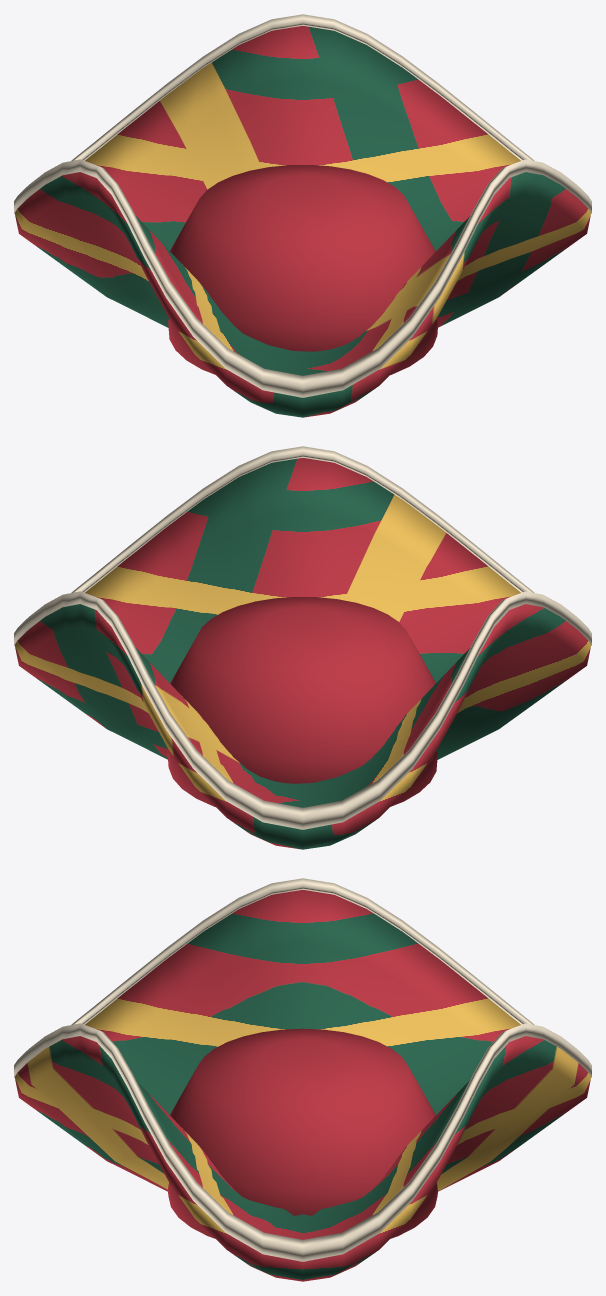
Rendered from ACC_TH_PIRATE_Primary.fbx.
3 renders of one model, top to bottom at view 1: azimuth 30°, elevation 25°; view 2: azimuth 150°, elevation 25°; view 3: azimuth 270°, elevation 25°, orthographic.
Parts seen in each view (by area): view 1: ACC_TH_PIRATE_Primary; view 2: ACC_TH_PIRATE_Primary; view 3: ACC_TH_PIRATE_Primary.
Part boxes in pixels (x1=…): ACC_TH_PIRATE_Primary: x1=14, y1=14, x2=591, y2=417; ACC_TH_PIRATE_Primary: x1=14, y1=446, x2=591, y2=849; ACC_TH_PIRATE_Primary: x1=14, y1=878, x2=591, y2=1281.
Size of the model in its own units: 118 by 56.8 by 124.
